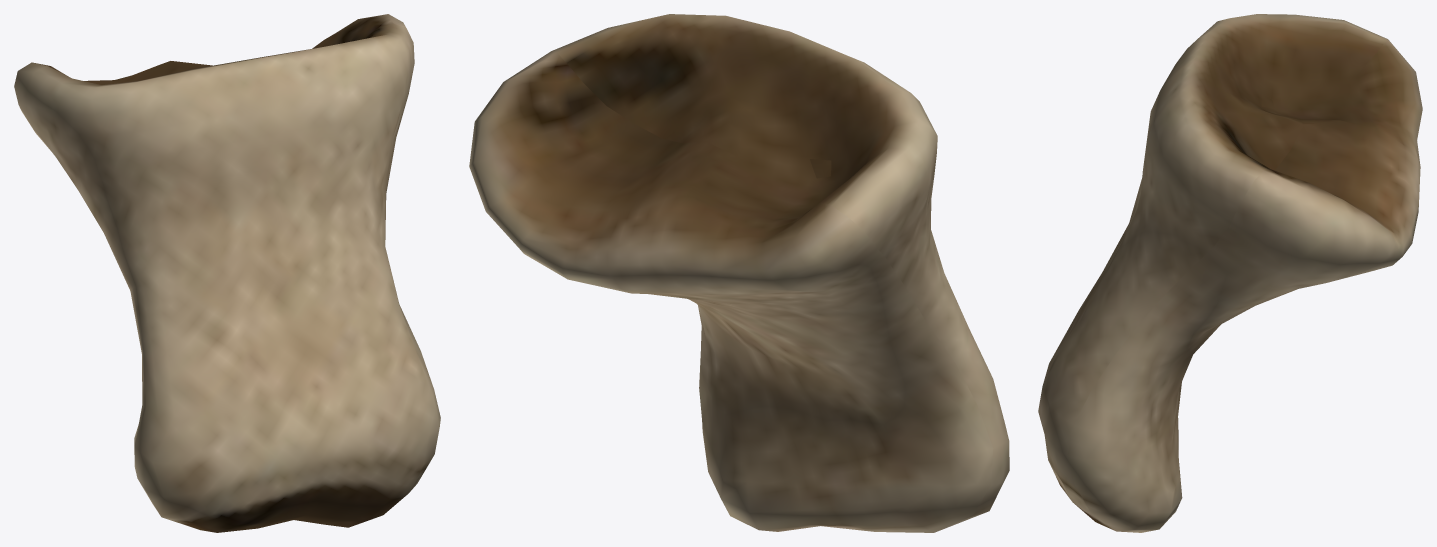
File: Long_Pastern.glb
The picture shows the model from 3 angles, left to right: view 1: azimuth 30°, elevation 25°; view 2: azimuth 150°, elevation 25°; view 3: azimuth 270°, elevation 25°; orthographic projection. The views are drawn at different scales.
Visible parts, largest first — view 1: R_Frt_Long_Pastern; view 2: R_Frt_Long_Pastern; view 3: R_Frt_Long_Pastern.
Part boxes in pixels (x1=…): R_Frt_Long_Pastern: x1=14, y1=14, x2=440, y2=532; R_Frt_Long_Pastern: x1=469, y1=14, x2=1009, y2=532; R_Frt_Long_Pastern: x1=1038, y1=14, x2=1422, y2=532.
Bounding box in the file's own units: 0.0711 × 0.0846 × 0.0666.
1 material, 1 textured.
